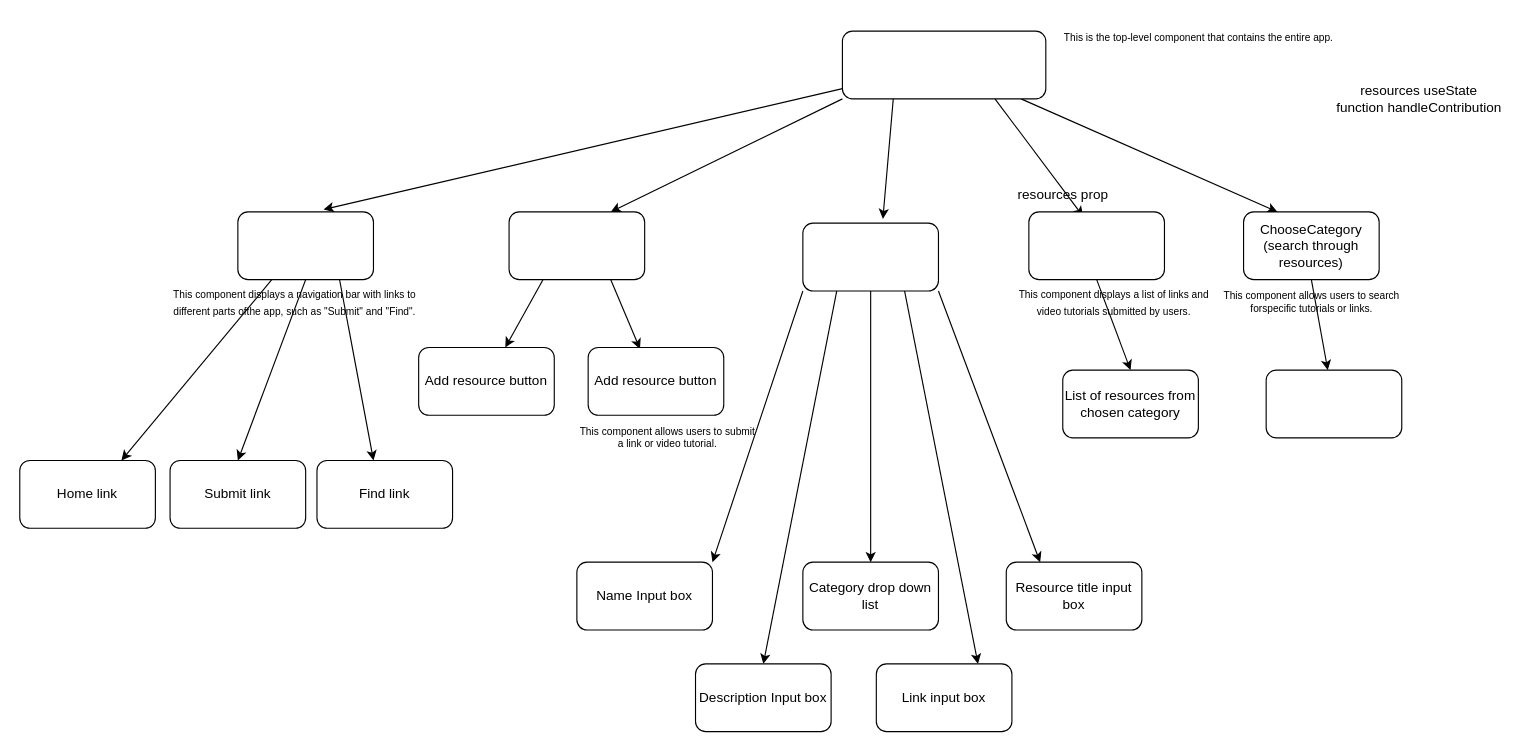
The diagram is 1535 pixels wide and 751 high, and some of its shapes have lost their labels. Each missing label, with the box of its shape:
App: (841, 30, 1046, 99)
Category buttons - dynamically created from list: (1265, 369, 1402, 438)
ContributeResource: (802, 222, 938, 291)
DisplayResources: (1028, 211, 1164, 280)
Home Page: (508, 211, 645, 280)
NavBar: (237, 211, 373, 280)
